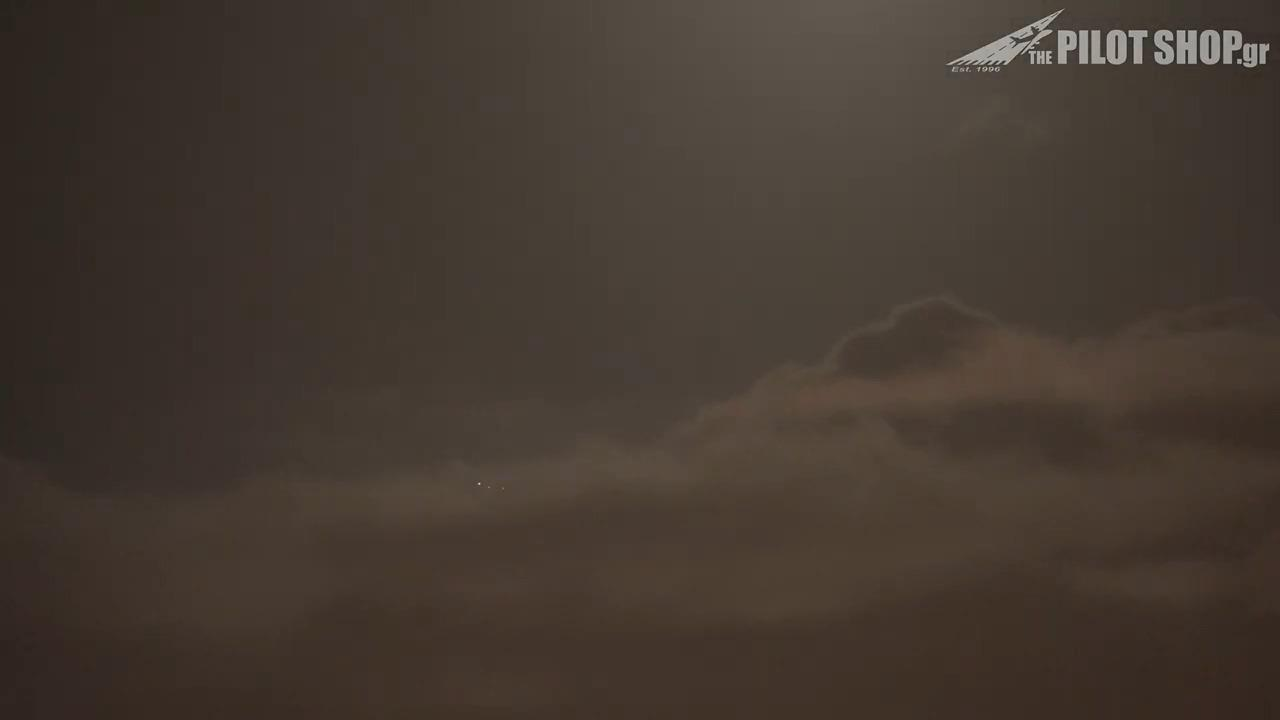Plane: (467, 480, 517, 494)
